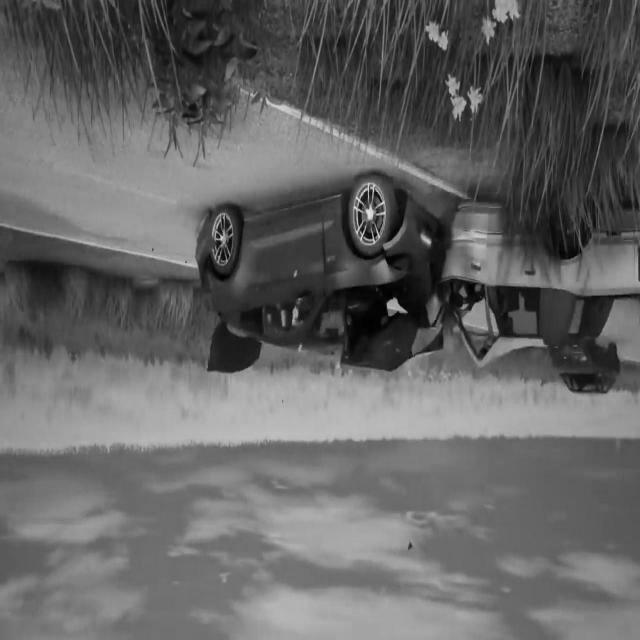moderate: (190, 163, 640, 395)
